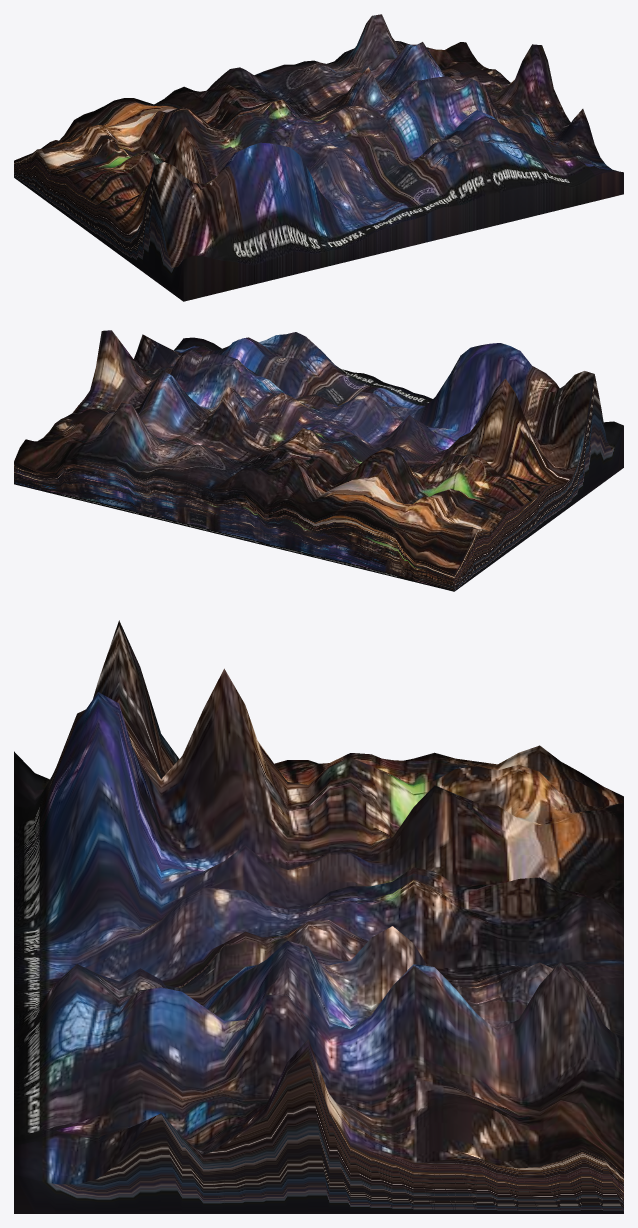
Rendered from SPECIAL_INT_22_Library.glb.
3 renders of one model, top to bottom at view 1: azimuth 30°, elevation 25°; view 2: azimuth 150°, elevation 25°; view 3: azimuth 270°, elevation 25°, orthographic. The views are drawn at different scales.
Parts seen in each view (by area): view 1: SPECIAL_INT_22_Library; view 2: SPECIAL_INT_22_Library; view 3: SPECIAL_INT_22_Library.
Boxes of the visible parts, x1=… form: SPECIAL_INT_22_Library: x1=14, y1=14, x2=623, y2=301; SPECIAL_INT_22_Library: x1=14, y1=330, x2=623, y2=591; SPECIAL_INT_22_Library: x1=14, y1=620, x2=623, y2=1213.
Bounding box in the file's own units: 2 × 0.51 × 1.33.
Materials: 1 (1 with a texture image).
